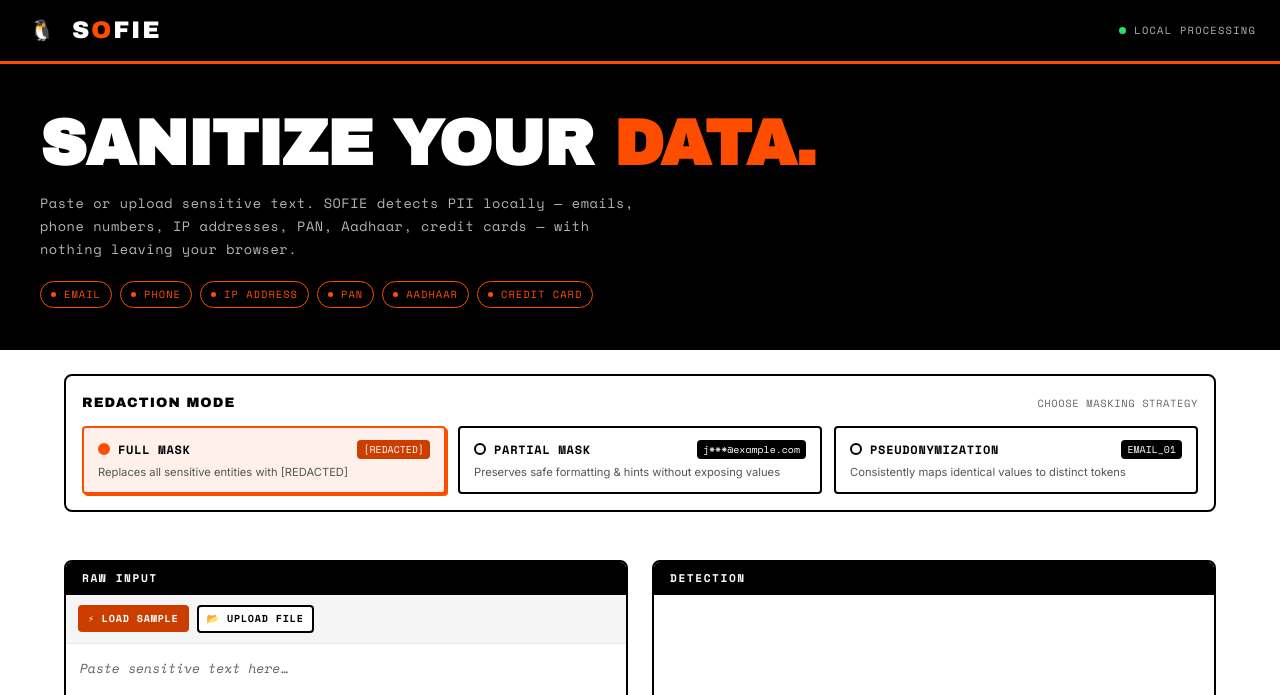
Test: SOFIE Phase 2 UI › 17. Switching redaction mode to Partial Mask updates the sanitized view
Click the button "⚡ LOAD SAMPLE".
click(133, 619)  # box x1=78 y1=605 x2=189 y2=632
Wait 400 ms
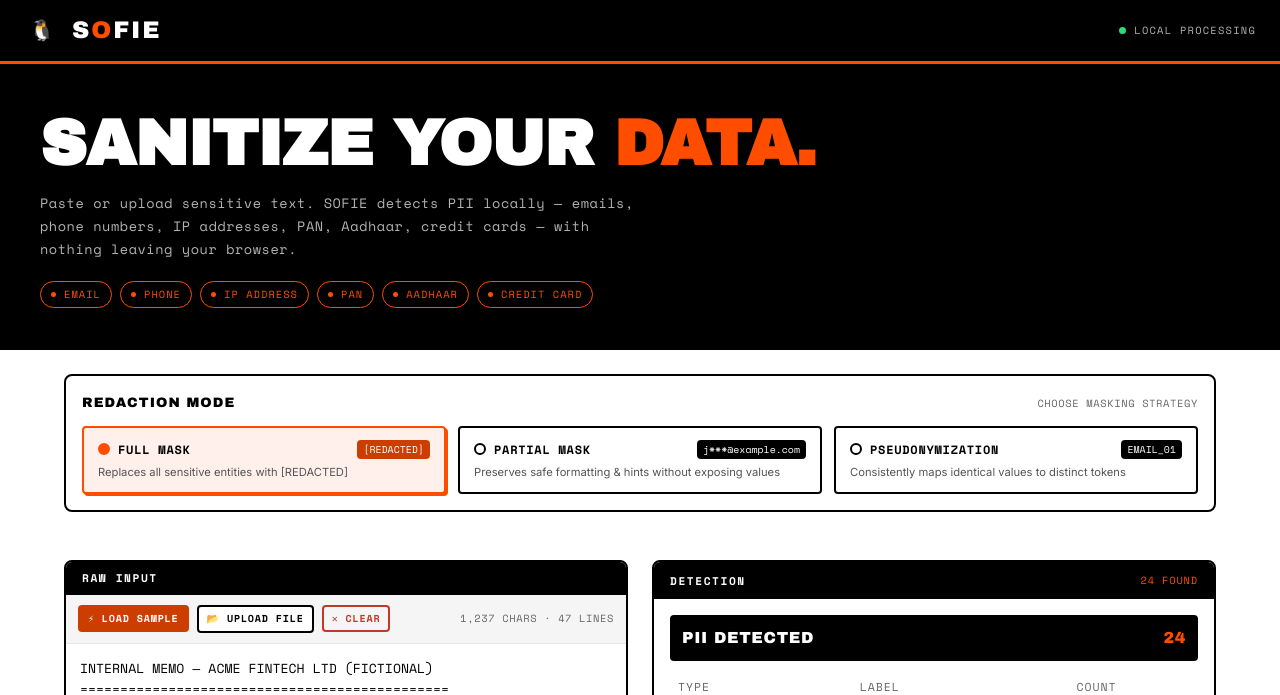
// Switch to Partial Mask
Click the radio button with test id "mode-btn-partial_mask".
click(542, 449)  # box x1=458 y1=426 x2=822 y2=494
(page scrolled)
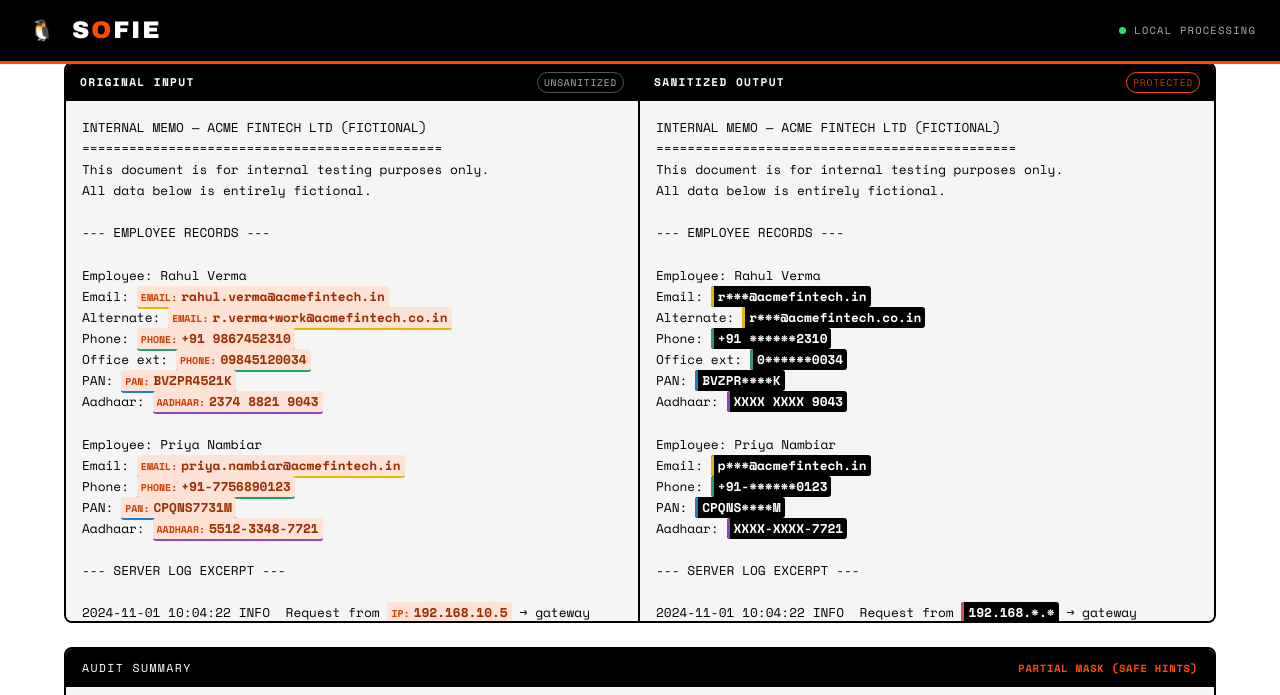
expect the element with test id "diff-pane-sanitized" shows "r***@": met, box x1=718 y1=287 x2=867 y2=306
